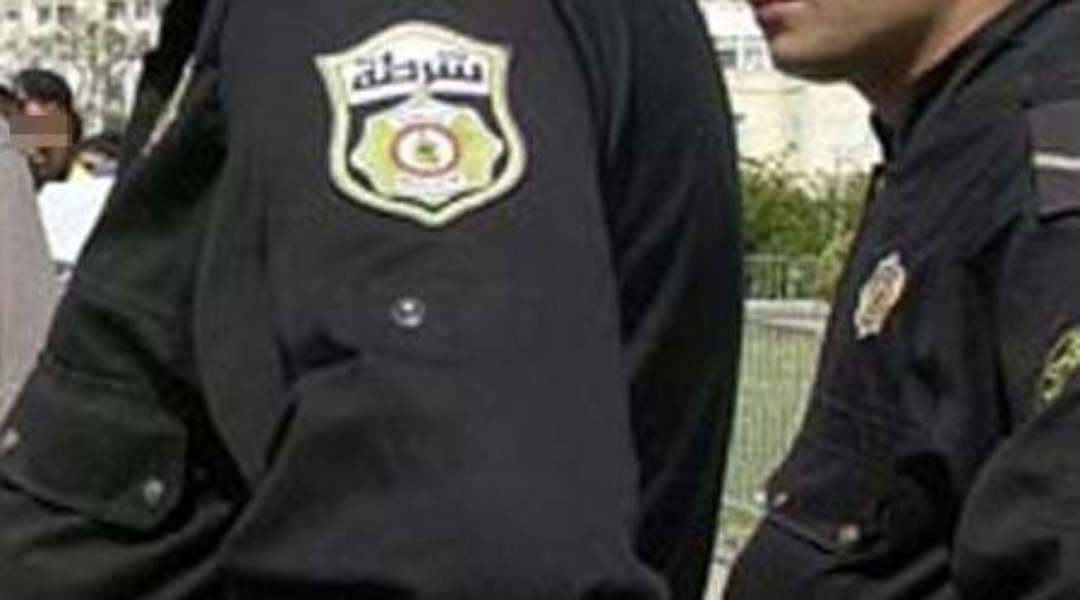text: (353, 39, 368, 99), (369, 39, 384, 99), (385, 39, 400, 99), (401, 39, 416, 99), (417, 39, 432, 99), (433, 39, 448, 99), (449, 39, 464, 99), (465, 39, 480, 99), (481, 39, 496, 99), (497, 39, 500, 99), (351, 39, 352, 99)
